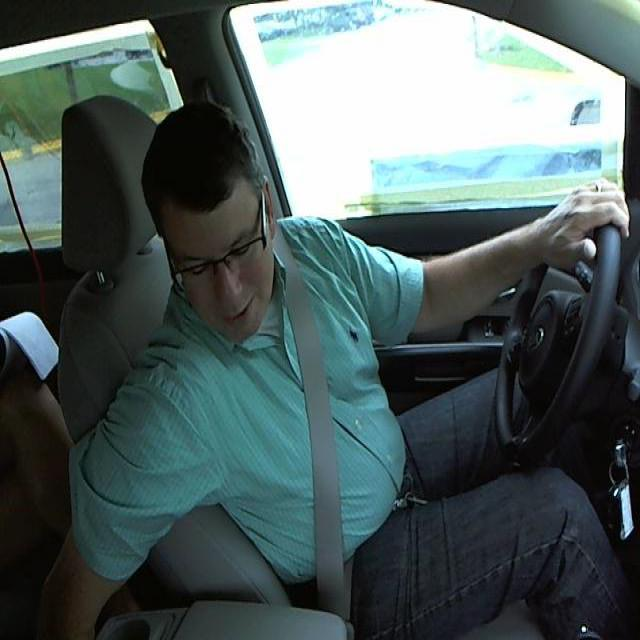seatbelt: (275, 259, 385, 624)
